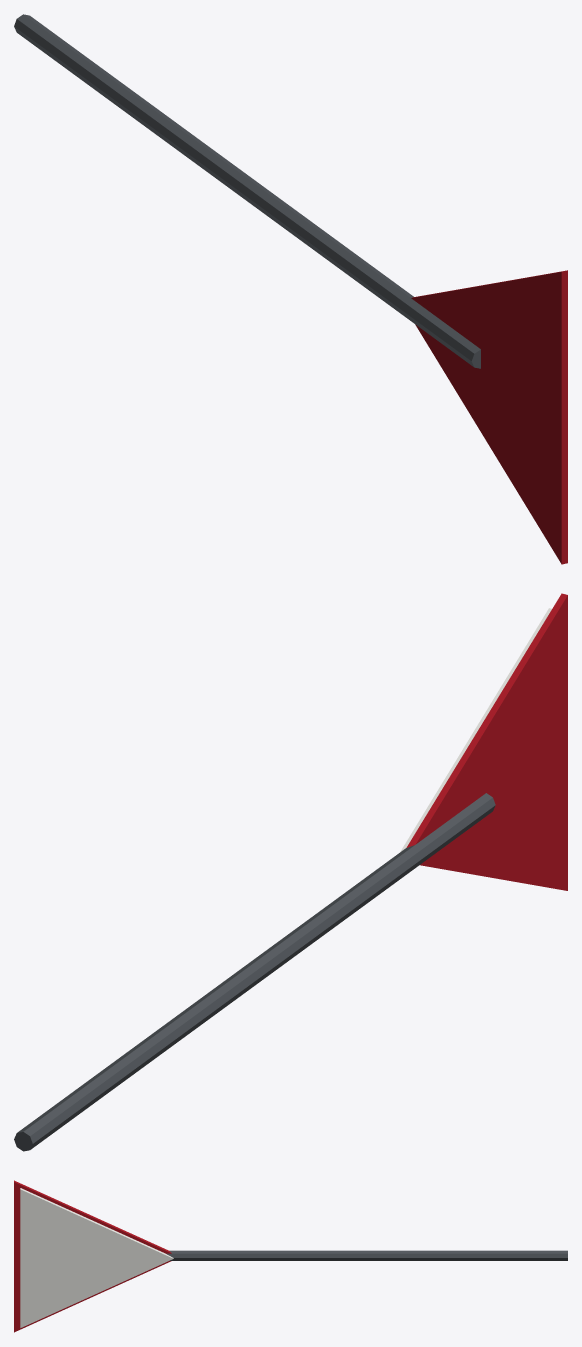
The model's file is sign_us_r1_2.obj.
3 views of the same model, one above another, from view 1: azimuth 30°, elevation 25°; view 2: azimuth 150°, elevation 25°; view 3: azimuth 270°, elevation 25° (orthographic). The views are drawn at different scales.
Parts seen in each view (by area): view 1: sign_us_r1_2_border, sign_us_r1_2_post; view 2: sign_us_r1_2_border, sign_us_r1_2_post, sign_us_r1_2_field; view 3: sign_us_r1_2_field, sign_us_r1_2_post, sign_us_r1_2_border.
Part boxes in pixels (bbox=[...]): sign_us_r1_2_border: bbox=[411, 270, 567, 564]; sign_us_r1_2_post: bbox=[14, 14, 480, 368]; sign_us_r1_2_border: bbox=[406, 593, 567, 890]; sign_us_r1_2_post: bbox=[14, 793, 495, 1151]; sign_us_r1_2_field: bbox=[400, 608, 551, 852]; sign_us_r1_2_field: bbox=[20, 1188, 173, 1327]; sign_us_r1_2_post: bbox=[166, 1250, 567, 1260]; sign_us_r1_2_border: bbox=[14, 1180, 171, 1332].
Bounding box in the file's own units: 0.07 × 0.9 × 3.
